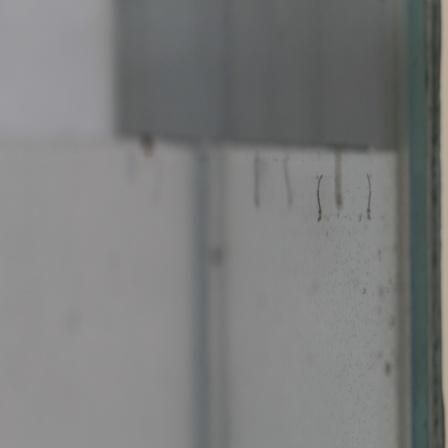Jentik-Nyamuk: (312, 172, 328, 224)
